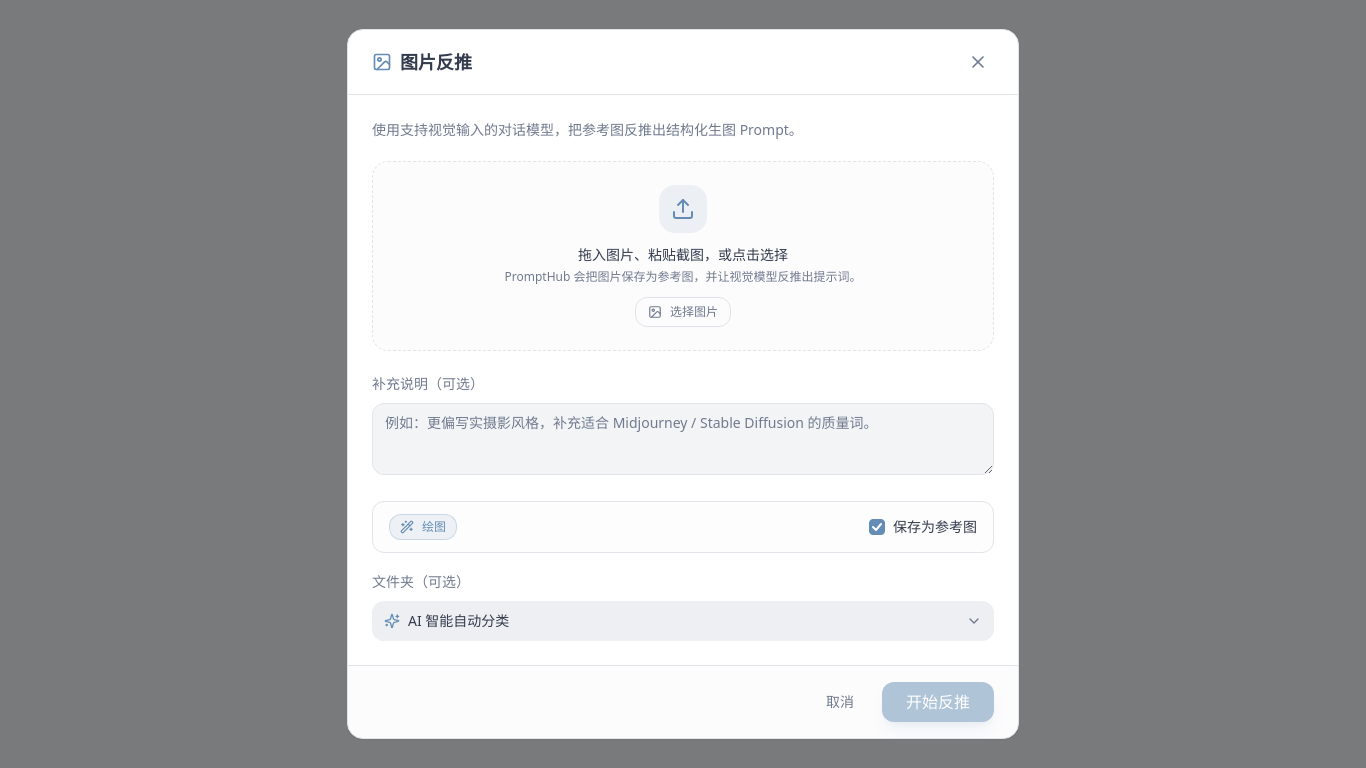
Test: ImagePromptReverseModal › shows a vision-model setup error instead of using legacy text config
The width and height of the screenshot is (1366, 768).
Click the text "拖入图片、粘贴截图，或点击选择": (683, 255) [578, 245, 788, 265]
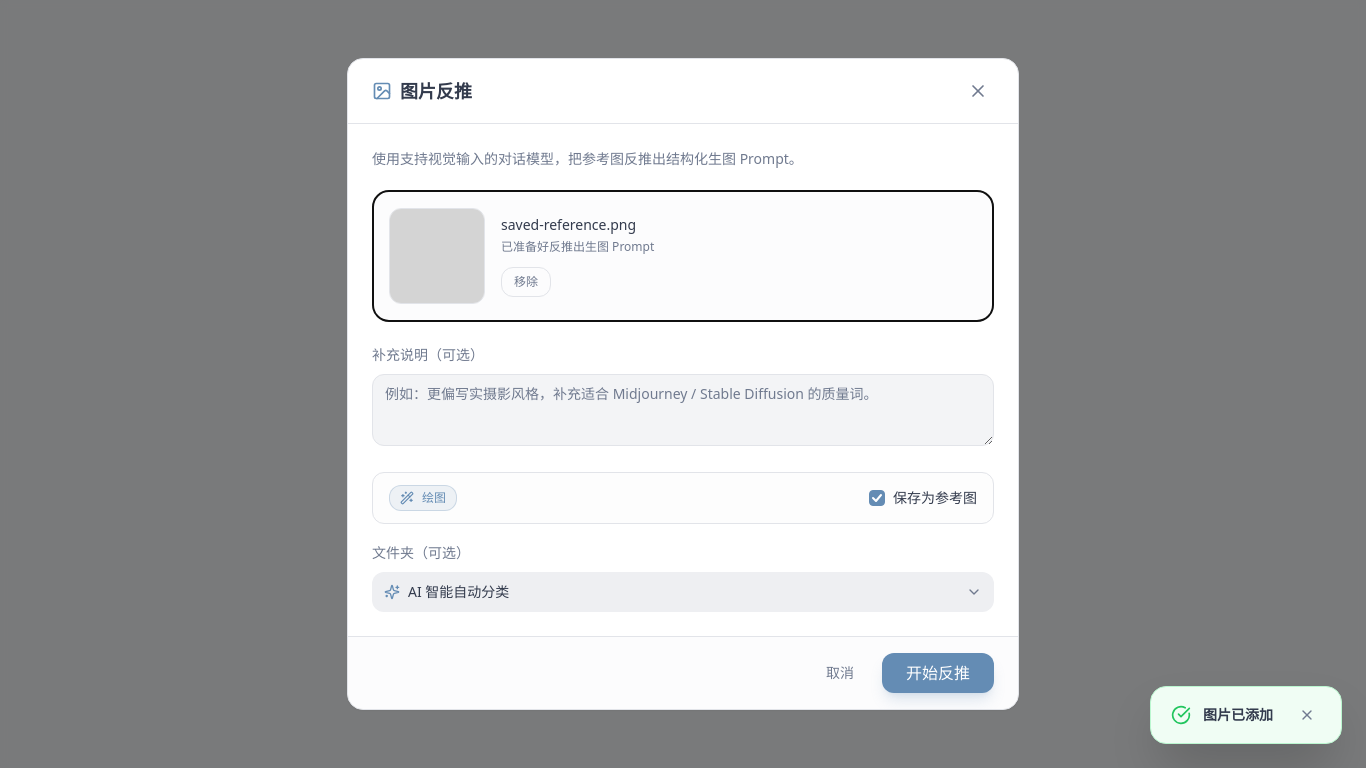
Check: the text "saved-reference.png" is shown, box [501, 215, 654, 235]
Click the button "开始反推": (938, 673) [882, 653, 994, 693]
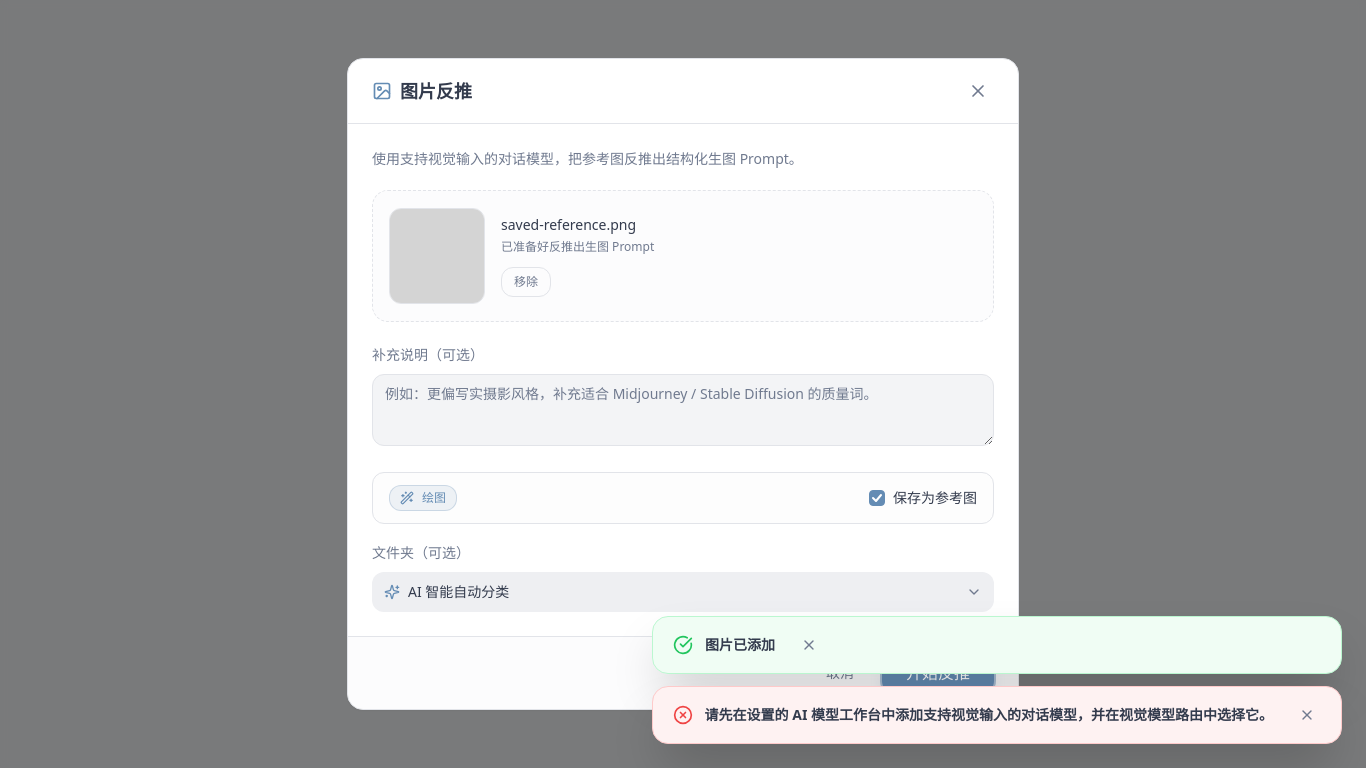
Check: the text "请先在设置的 AI 模型工作台中添加支持视觉输入的对话模型，并在视觉模型路由中选择它。" is shown, box [705, 705, 1273, 725]
